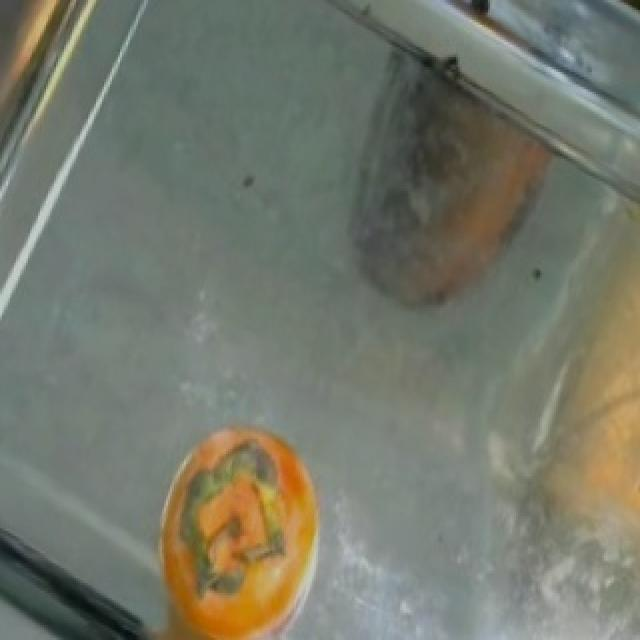Fruit: (128, 404, 342, 640)
